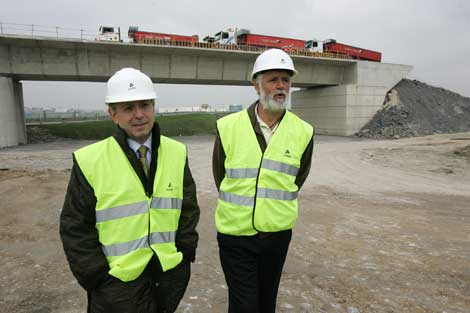Helmet: (101, 64, 168, 146), (243, 47, 299, 121)
Reflective vest: (69, 132, 191, 282), (217, 101, 315, 234)
